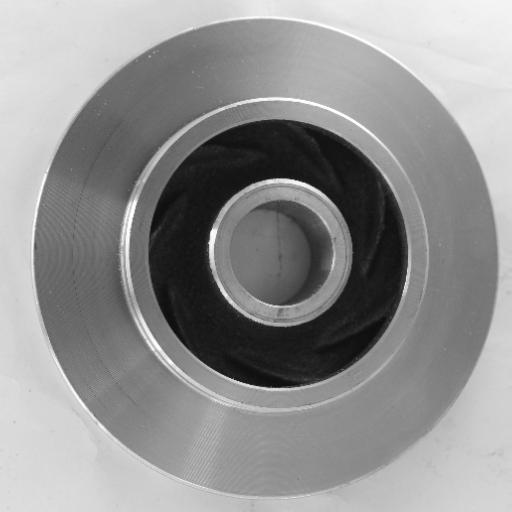polished_casting: (32, 17, 499, 502)
